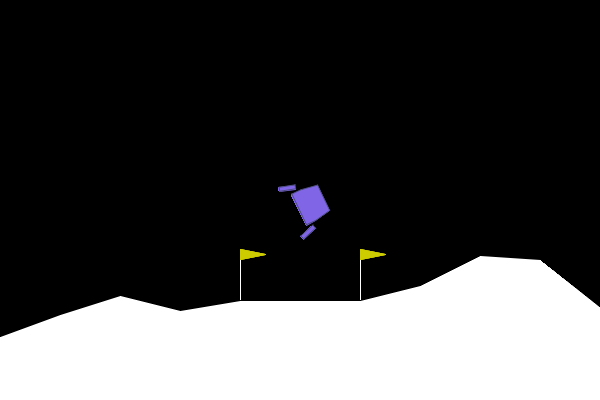lander: (276, 170, 338, 242)
